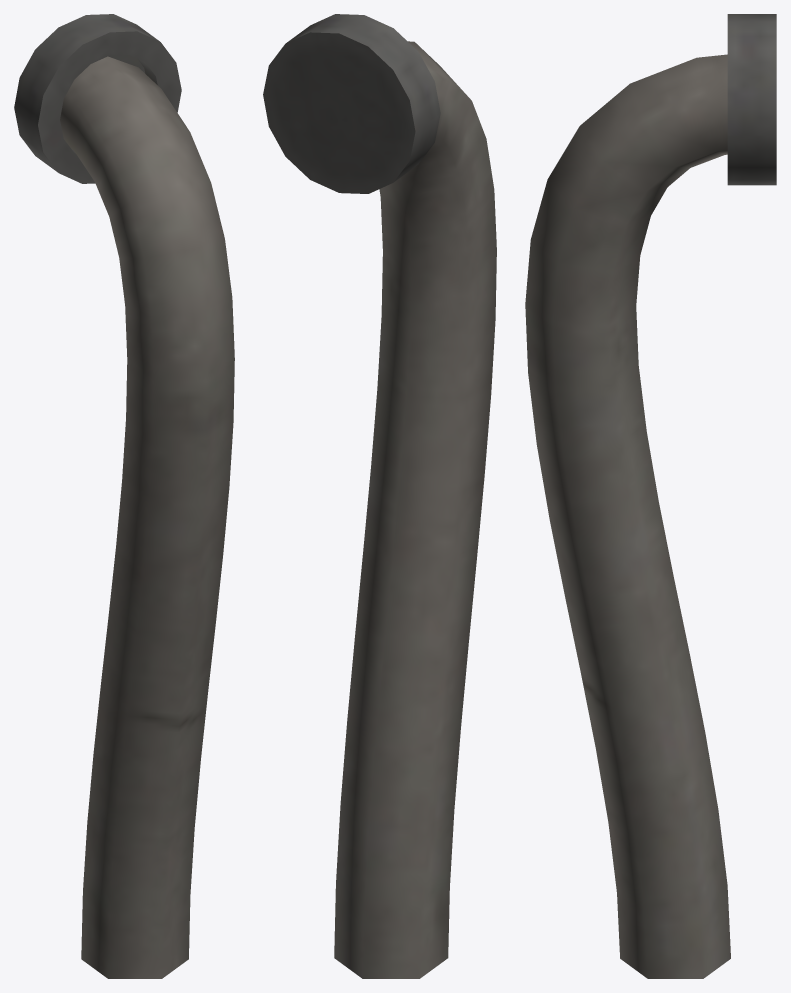
Rendered from cable_end.gltf.
3 renders of one model, left to right at view 1: azimuth 30°, elevation 25°; view 2: azimuth 150°, elevation 25°; view 3: azimuth 270°, elevation 25°, orthographic. The views are drawn at different scales.
Visible parts, largest first — view 1: cable_end; view 2: cable_end; view 3: cable_end.
Part boxes in pixels (x1=…): cable_end: x1=14, y1=14, x2=234, y2=978; cable_end: x1=263, y1=14, x2=496, y2=978; cable_end: x1=525, y1=14, x2=776, y2=978.
Size of the model in its own units: 0.0173 by 0.1045 by 0.0254.
1 material, 1 textured.
